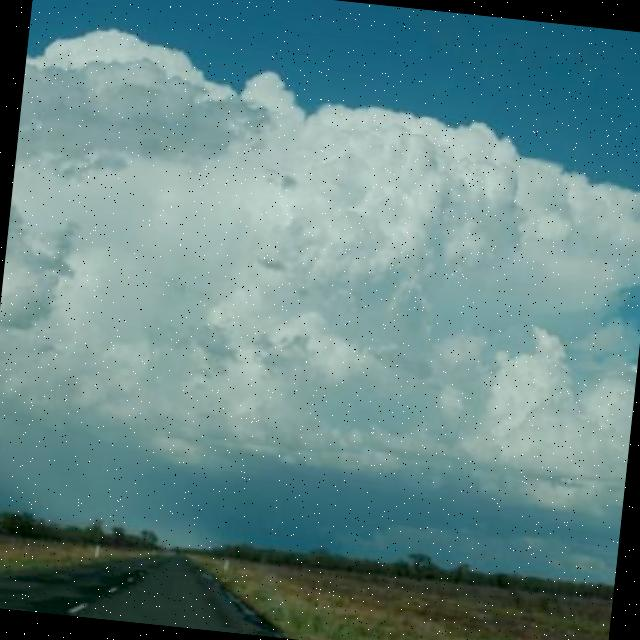Cb: (1, 22, 640, 503)
